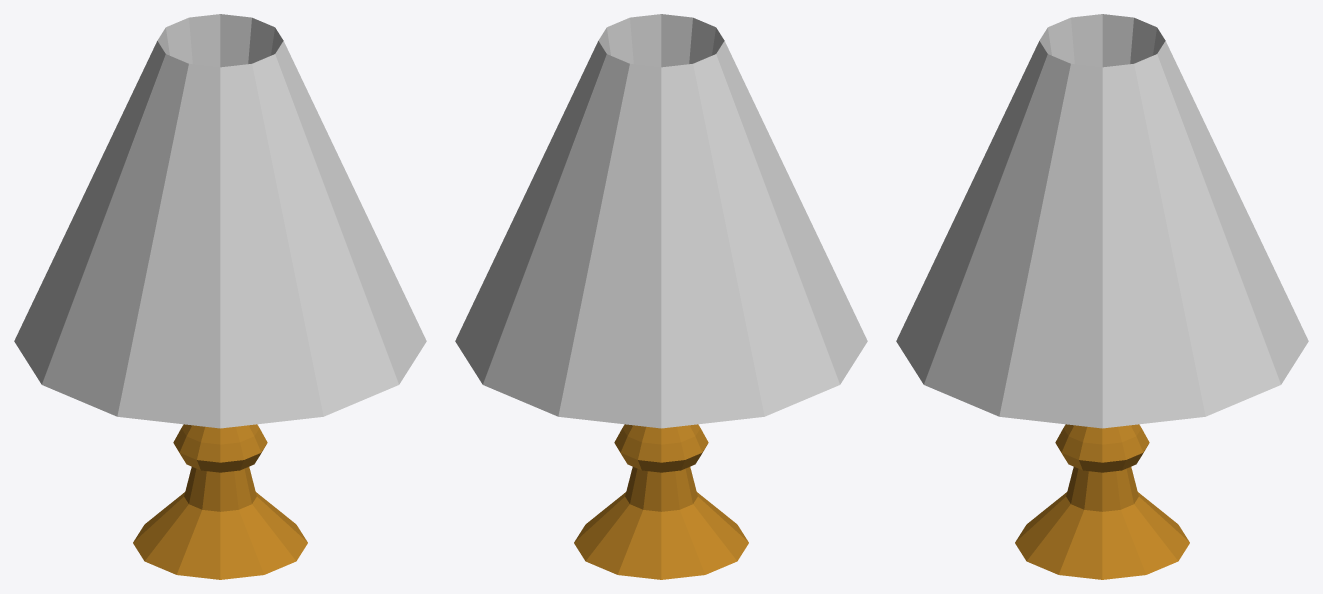
Rendered from DeskLamp.glb.
3 views of the same model, side by side, from view 1: azimuth 30°, elevation 25°; view 2: azimuth 150°, elevation 25°; view 3: azimuth 270°, elevation 25° (orthographic).
Visible parts, largest first — view 1: DeskLamp; view 2: DeskLamp; view 3: DeskLamp.
Part boxes in pixels (x1=…): DeskLamp: x1=14, y1=14, x2=426, y2=579; DeskLamp: x1=455, y1=14, x2=867, y2=579; DeskLamp: x1=896, y1=14, x2=1308, y2=579.
Bounding box in the file's own units: 0.2903 × 0.3899 × 0.2903.
